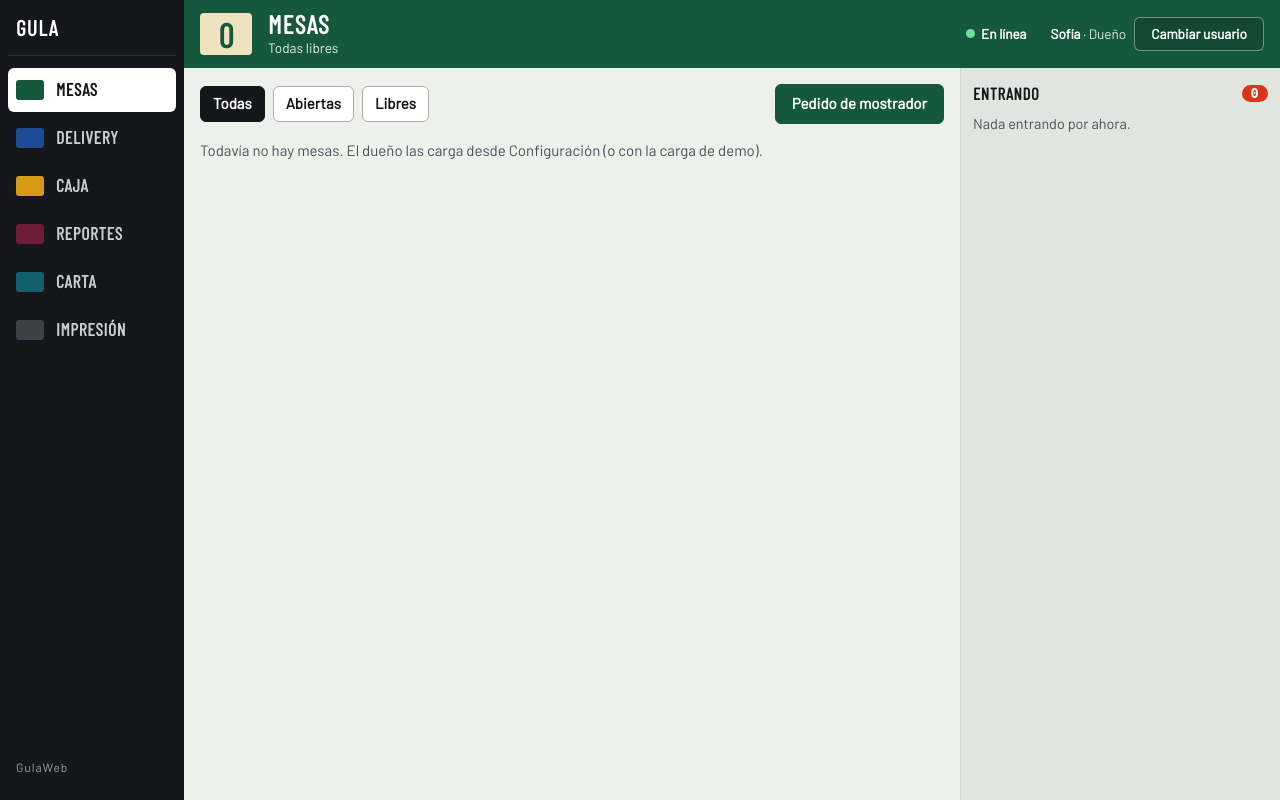
Test: el riel marca la sección activa con aria-current y el cartel muestra su nombre y resumen
Expected: the heading "Mesas" is shown, 268,11 -> 338,38
Click the button "Carta": (92, 282) 8,260 -> 176,304
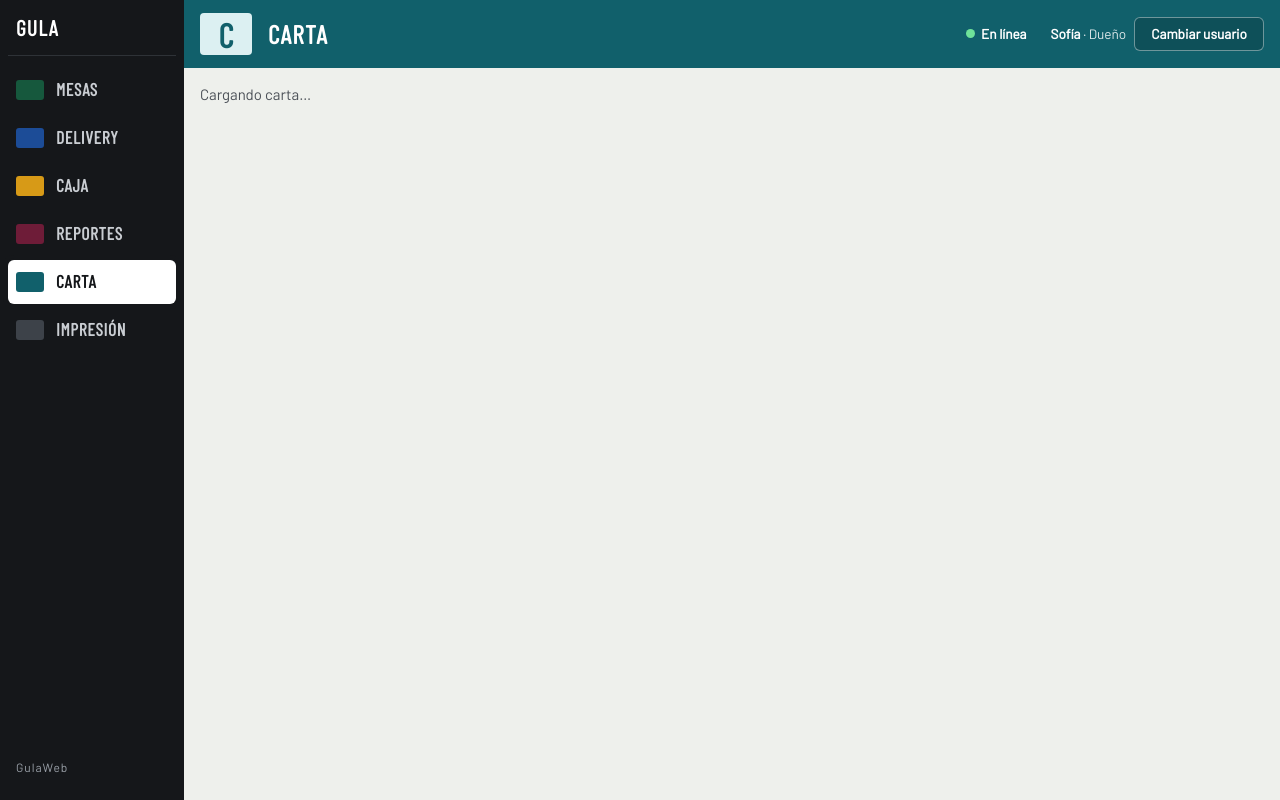
Expected: the text "Gula" is shown, 16,16 -> 59,39
Expected: the heading "Carta" is shown, 268,21 -> 328,48
Expected: the heading "Entrando" is gone
Click the button "Mesas": (92, 90) 8,68 -> 176,112
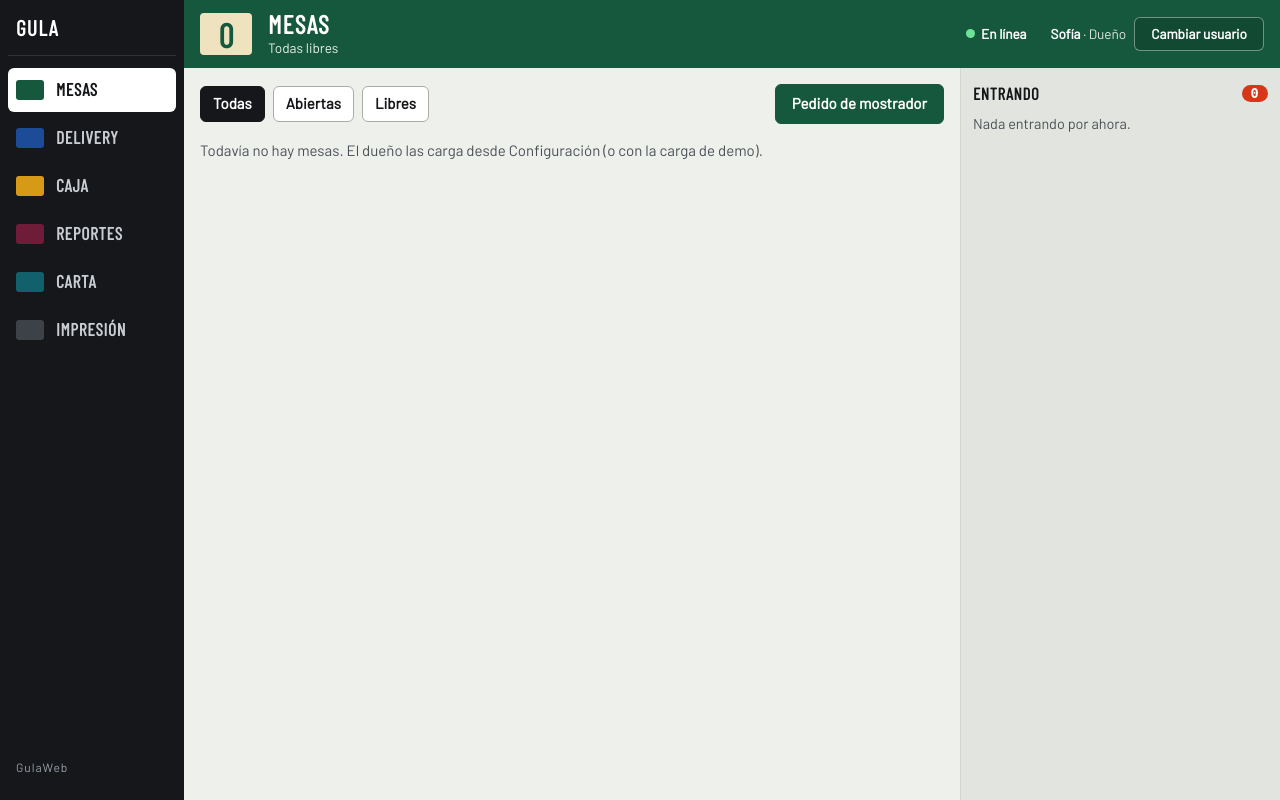
Expected: the heading "Entrando 0" is shown, 973,84 -> 1268,102
